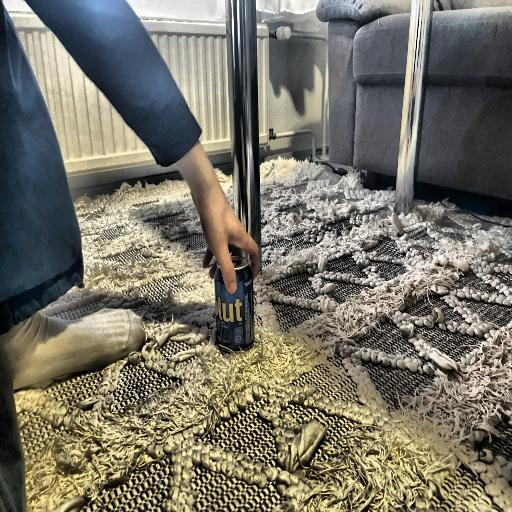koti: (211, 252, 254, 351)
